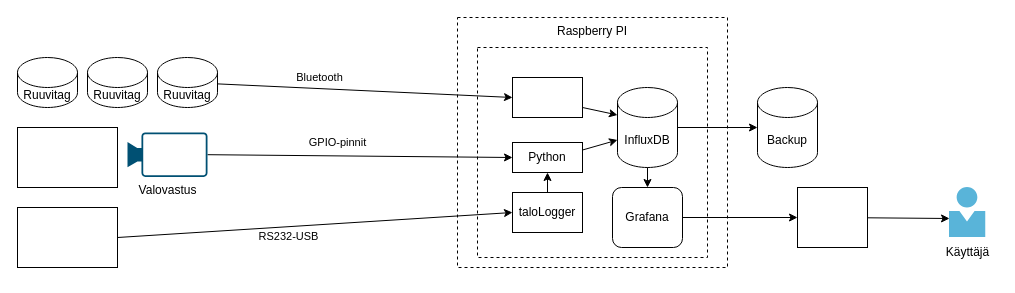
This 1015x293 diagram has some shape labels left out. Each missing label, with the box of its shape:
Docker: (476, 46, 708, 258)
Lämmönvaihdin: (16, 206, 118, 268)
Reititin: (796, 186, 868, 248)
Ruuvi Collector: (512, 76, 582, 118)
Sähkömittari LED-ilmaisimella: (16, 126, 118, 188)
